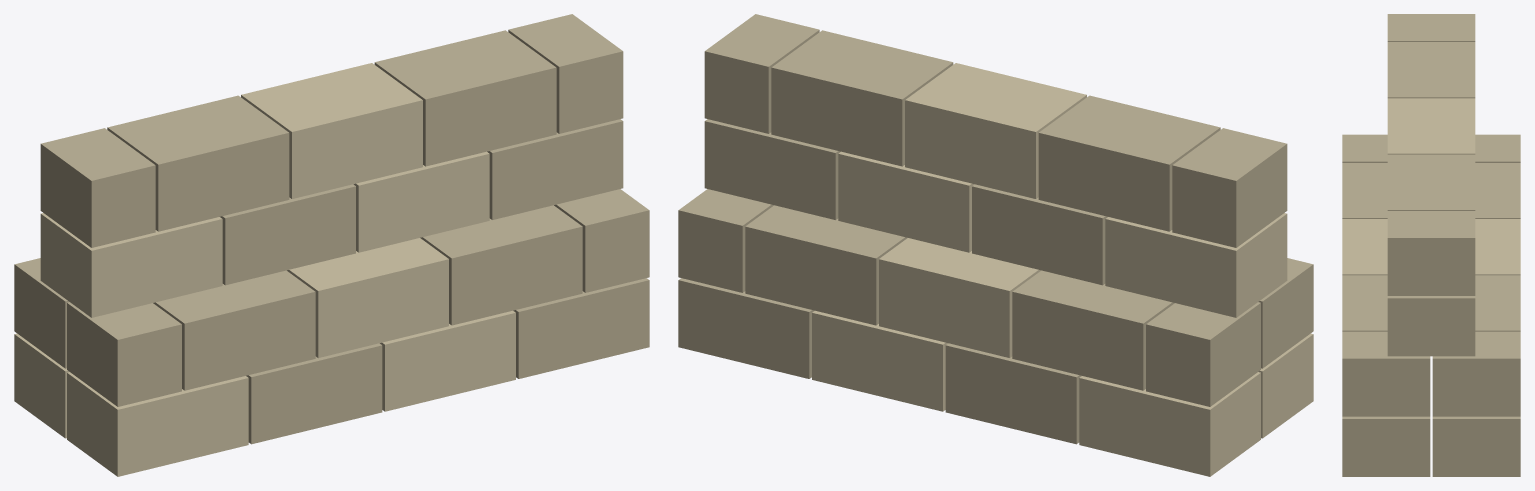
File: sandbags.glb
3 renders of one model, left to right at view 1: azimuth 30°, elevation 25°; view 2: azimuth 150°, elevation 25°; view 3: azimuth 270°, elevation 25°, orthographic. The views are drawn at different scales.
Parts seen in each view (by area): view 1: Sandbags; view 2: Sandbags; view 3: Sandbags.
Part boxes in pixels (left/top/right/bottom): Sandbags: left=14, top=14, right=649, bottom=476; Sandbags: left=678, top=14, right=1313, bottom=476; Sandbags: left=1342, top=14, right=1520, bottom=476.
Size of what is drawn, in the model's own units: 1.99 by 0.99 by 0.67.
